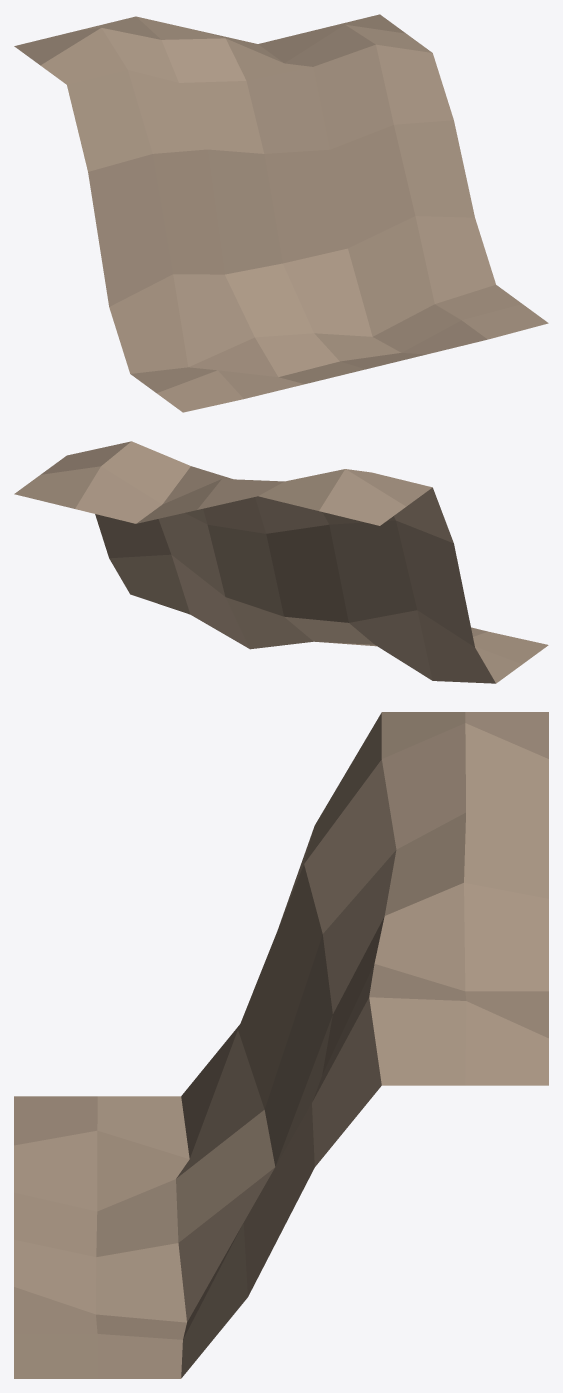
Rendered from Groborchik_RiverBank_Trans_Up4-3.fbx.
3 views of the same model, one above another, from view 1: azimuth 30°, elevation 25°; view 2: azimuth 150°, elevation 25°; view 3: azimuth 270°, elevation 25° (orthographic). The views are drawn at different scales.
Visible parts, largest first — view 1: Trans_Up4-3; view 2: Trans_Up4-3; view 3: Trans_Up4-3.
Part boxes in pixels (box(x1,y1,x2,y2)): Trans_Up4-3: box(14, 14, 548, 412); Trans_Up4-3: box(14, 441, 548, 683); Trans_Up4-3: box(14, 712, 548, 1378).
Bounding box in the file's own units: 1000 × 756 × 800.
